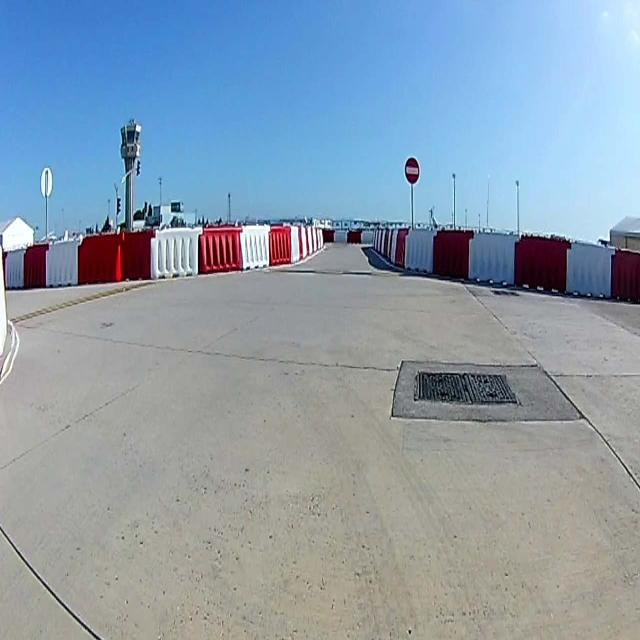girisyok: (403, 155, 421, 185)
